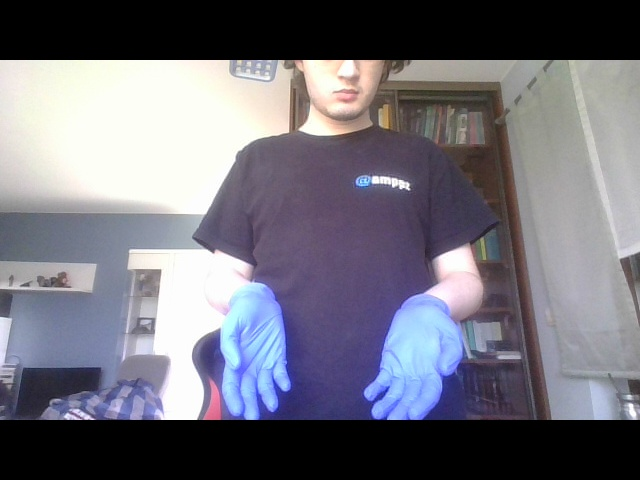glove: (360, 292, 464, 420), (217, 280, 293, 419)
